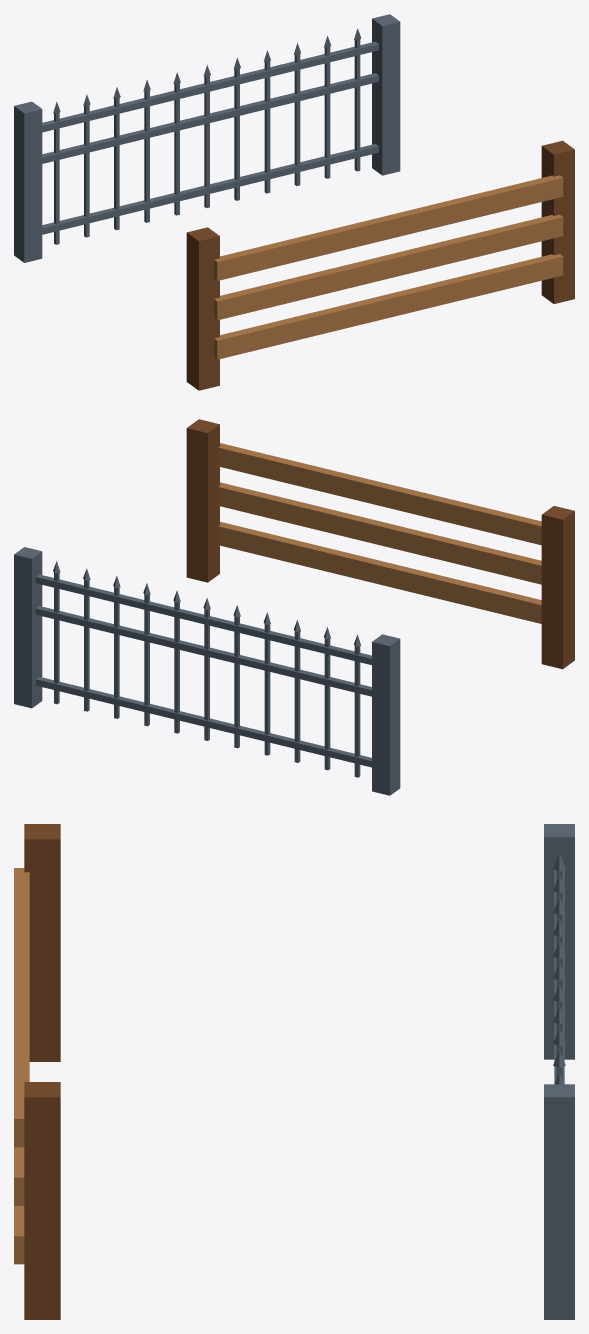
Rendered from fences.glb.
The picture shows the model from 3 angles, top to bottom: view 1: azimuth 30°, elevation 25°; view 2: azimuth 150°, elevation 25°; view 3: azimuth 270°, elevation 25°; orthographic projection. The views are drawn at different scales.
Visible parts, largest first — view 1: FenceMetalBars, FenceWoodRails, FenceWoodPosts, FenceMetalSpikes; view 2: FenceMetalBars, FenceWoodRails, FenceWoodPosts, FenceMetalSpikes; view 3: FenceWoodPosts, FenceMetalBars, FenceWoodRails, FenceMetalSpikes.
Boxes of the visible parts, x1,y1,x2,y2 form: FenceMetalBars: [14, 14, 400, 262]; FenceWoodRails: [214, 175, 563, 359]; FenceWoodPosts: [186, 140, 574, 390]; FenceMetalSpikes: [53, 28, 361, 113]; FenceMetalBars: [14, 547, 400, 795]; FenceWoodRails: [218, 443, 541, 623]; FenceWoodPosts: [186, 419, 574, 669]; FenceMetalSpikes: [53, 561, 361, 646]; FenceWoodPosts: [24, 824, 60, 1319]; FenceMetalBars: [544, 824, 574, 1319]; FenceWoodRails: [14, 868, 29, 1264]; FenceMetalSpikes: [553, 853, 565, 1084].
Bounding box in the file's own units: 2.5 × 0.95 × 2.17.
